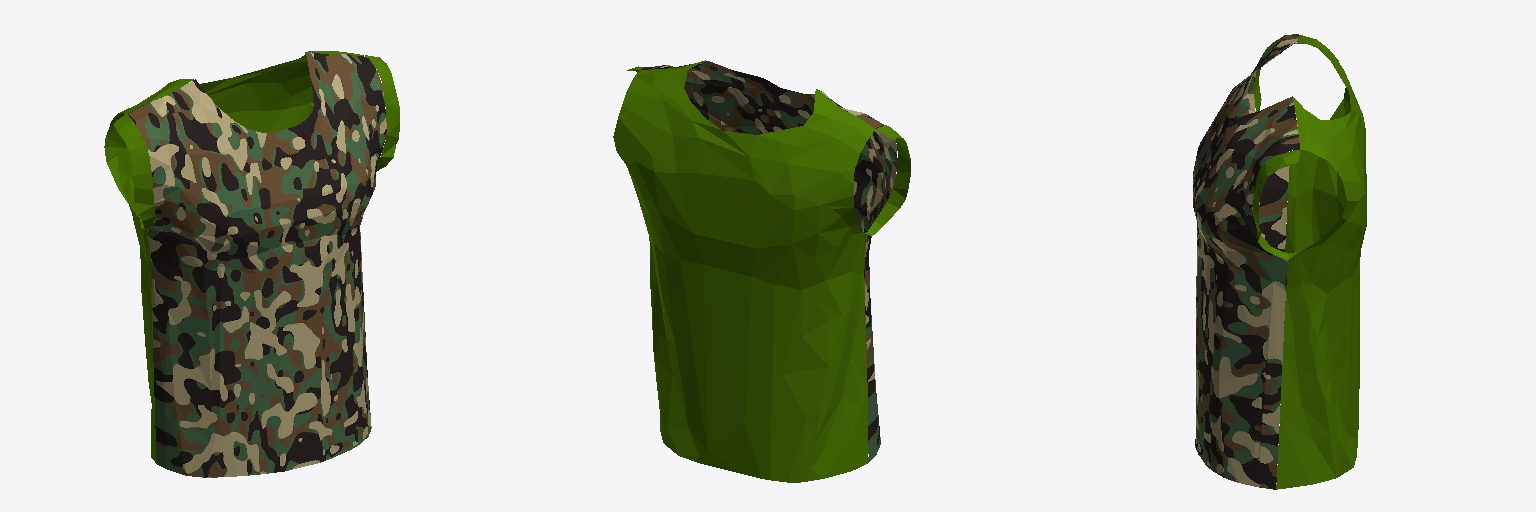
3 renders of one model, left to right at view 1: azimuth 30°, elevation 25°; view 2: azimuth 150°, elevation 25°; view 3: azimuth 270°, elevation 25°, orthographic.
Parts seen in each view (by area): view 1: T_shirt.002; view 2: T_shirt.002; view 3: T_shirt.002.
Part boxes in pixels (x1,y1,x2,y2): T_shirt.002: (104, 51, 399, 477); T_shirt.002: (613, 60, 910, 482); T_shirt.002: (1193, 34, 1366, 489).
Bounding box in the file's own units: 0.2935 × 0.3892 × 0.1639.
2 materials, 1 textured.